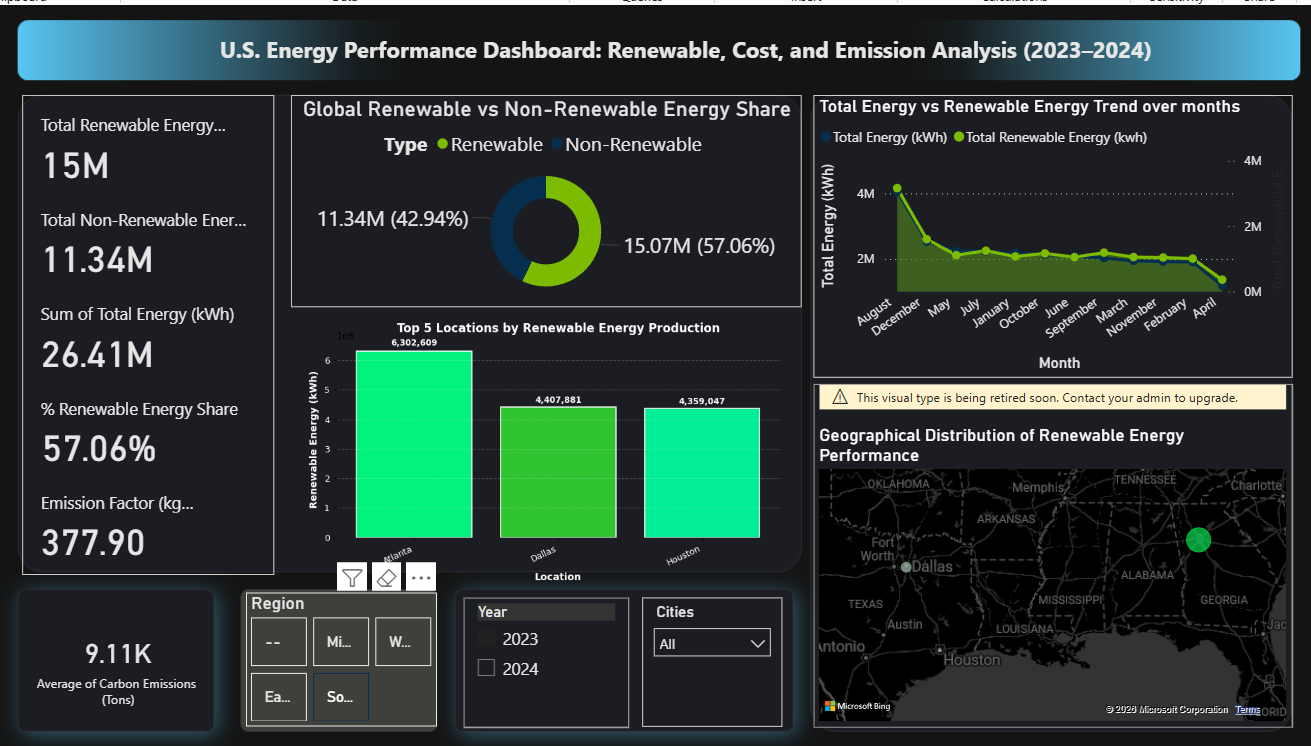

The dashboard page shown, as its layout file describes it:
{"tool":"powerbi","page":{"name":"Overview-Global Snapshot","canvas":[1280,720],"ordinal":0},"visuals":[{"type":"textbox","box":[211.1,22.9,921.7,48.3],"z":0},{"type":"cardVisual","fields":{"Data":["DAX House.Total Renewable Energy (kwh)","DAX House.Total Non-Renewable Energy (kwh)","Sum(Data.Total Energy (kWh))","DAX House.% Renewable Energy Share","DAX House.Emission Factor (kg Co2/kwh)"]},"box":[25.7,87.1,242.9,462.9],"z":1000},{"type":"map","title":"Geographical Distribution of Renewable Energy Performance","fields":{"Size":["DAX House.Total Energy (kWh)"],"Category":["Data.Location"],"Y":["DAX House.% Renewable Energy Share"]},"box":[789,365.6,462.1,331.8],"z":2000},{"type":"donutChart","title":"Global Renewable vs Non-Renewable Energy Share","fields":{"Category":["EnergyType.Type"],"Y":["DAX House.Energy Mix Value"]},"box":[285,86.3,493,204.9],"z":4000},{"type":"slicer","fields":{"Values":["Dim_Date.Year"]},"box":[451.4,571.4,160,125.7],"z":5000},{"type":"advancedSlicerVisual","fields":{"Values":["Dim_Location.Region"]},"box":[240.9,566.5,184.4,129.4],"z":6000},{"type":"slicer","fields":{"Values":["Dim_Location.Location Key"]},"box":[623.3,571.7,135,125],"z":7000},{"type":"areaChart","title":"Total Energy vs Renewable Energy Trend over months","fields":{"Category":["Dim_Date.Month"],"Y":["DAX House.Total Energy (kWh)"],"Y2":["DAX House.Total Renewable Energy (kwh)"]},"box":[789,86.9,462.1,272.7],"z":8000},{"type":"card","fields":{"Values":["Avg(Data.Carbon Emissions (Tons))"]},"box":[25.7,568.6,185.7,128.6],"z":9000},{"type":"pythonVisual","fields":{"Values":["Sum(Data.Renewable Energy (kWh))","Dim_Location.Location Key","Data.Location"]},"box":[241.3,292,576.7,279.9],"z":10000}]}

Visuals, with their boxes on the page's 1280x720 design canvas (x1, y1, x2, y2). These are canvas units, not pixel positions in the 1311x746 screenshot, which may show the page scaled, cropped or inside an application window:
textbox: 211/23/1133/71
cardVisual - DAX House.Total Renewable Energy (kwh) x DAX House.Total Non-Renewable Energy (kwh): 26/87/269/550
"Geographical Distribution of Renewable Energy Performance" map: 789/366/1251/697
"Global Renewable vs Non-Renewable Energy Share" donutChart: 285/86/778/291
slicer - Dim_Date.Year: 451/571/611/697
advancedSlicerVisual - Dim_Location.Region: 241/566/425/696
slicer - Dim_Location.Location Key: 623/572/758/697
"Total Energy vs Renewable Energy Trend over months" areaChart: 789/87/1251/360
card - Avg(Data.Carbon Emissions (Tons)): 26/569/211/697
pythonVisual - Sum(Data.Renewable Energy (kWh)) x Dim_Location.Location Key: 241/292/818/572
